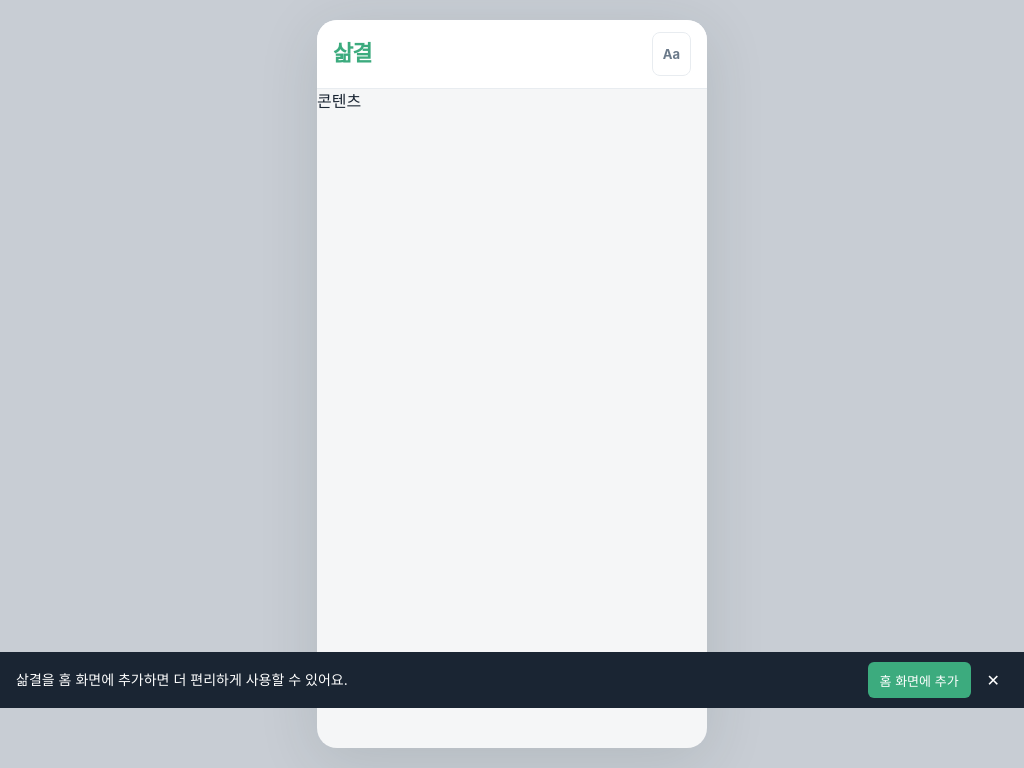
it: 홈 화면 추가 배너 닫기 클릭 시 배너가 사라진다
Step 1. Click the button named "닫기" → [993, 680], box top-left (979, 662), bottom-right (1008, 698)
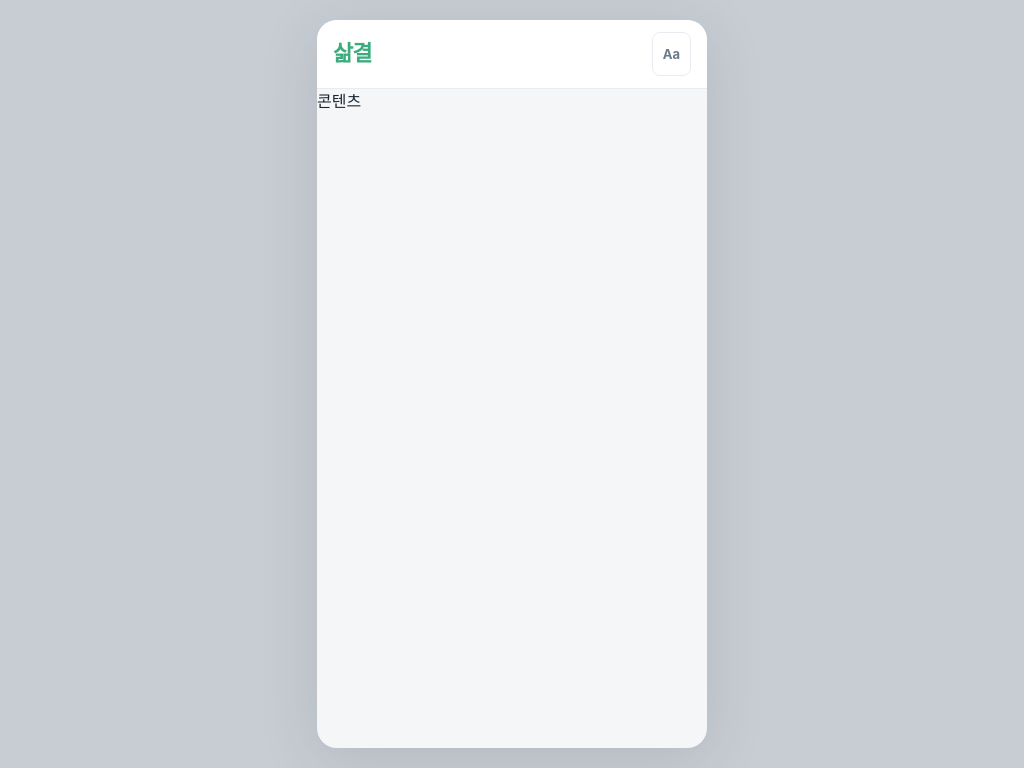
Result: the text "홈 화면에 추가" is gone
